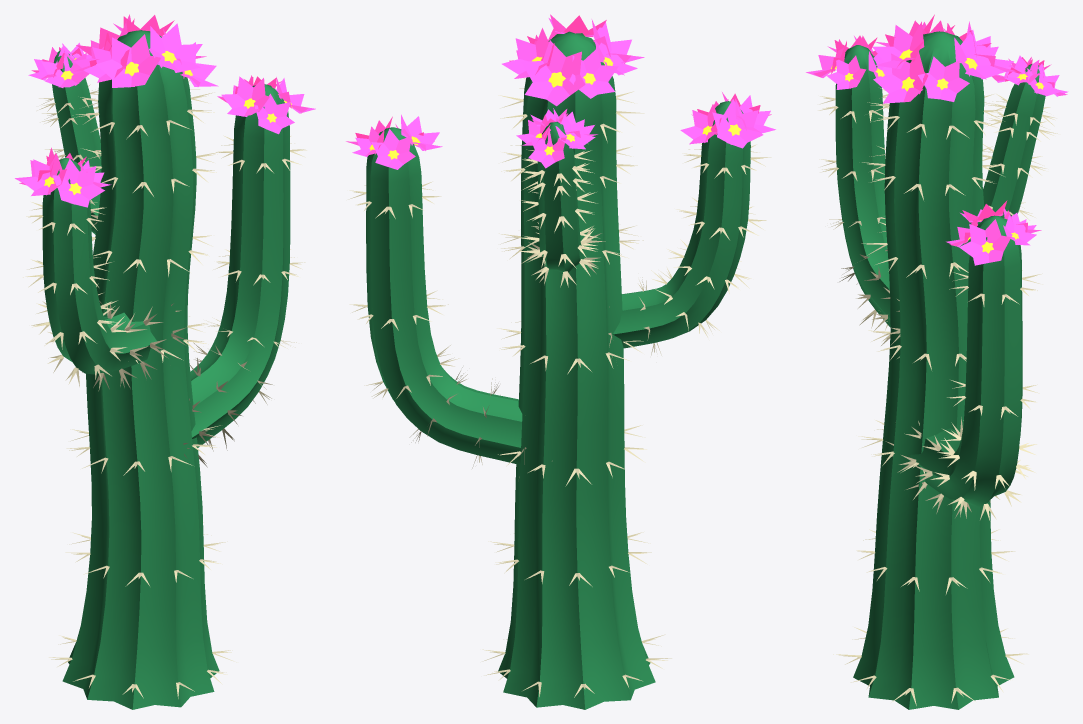
The model's file is cactus_a.glb.
The picture shows the model from 3 angles, left to right: view 1: azimuth 30°, elevation 25°; view 2: azimuth 150°, elevation 25°; view 3: azimuth 270°, elevation 25°; orthographic projection.
Visible parts, largest first — view 1: cactus_a; view 2: cactus_a; view 3: cactus_a.
Boxes of the visible parts, bbox=[...] form: cactus_a: bbox=[15, 14, 315, 709]; cactus_a: bbox=[346, 14, 775, 709]; cactus_a: bbox=[806, 14, 1068, 709].
Bounding box in the file's own units: 2.25 × 4.01 × 1.45.
